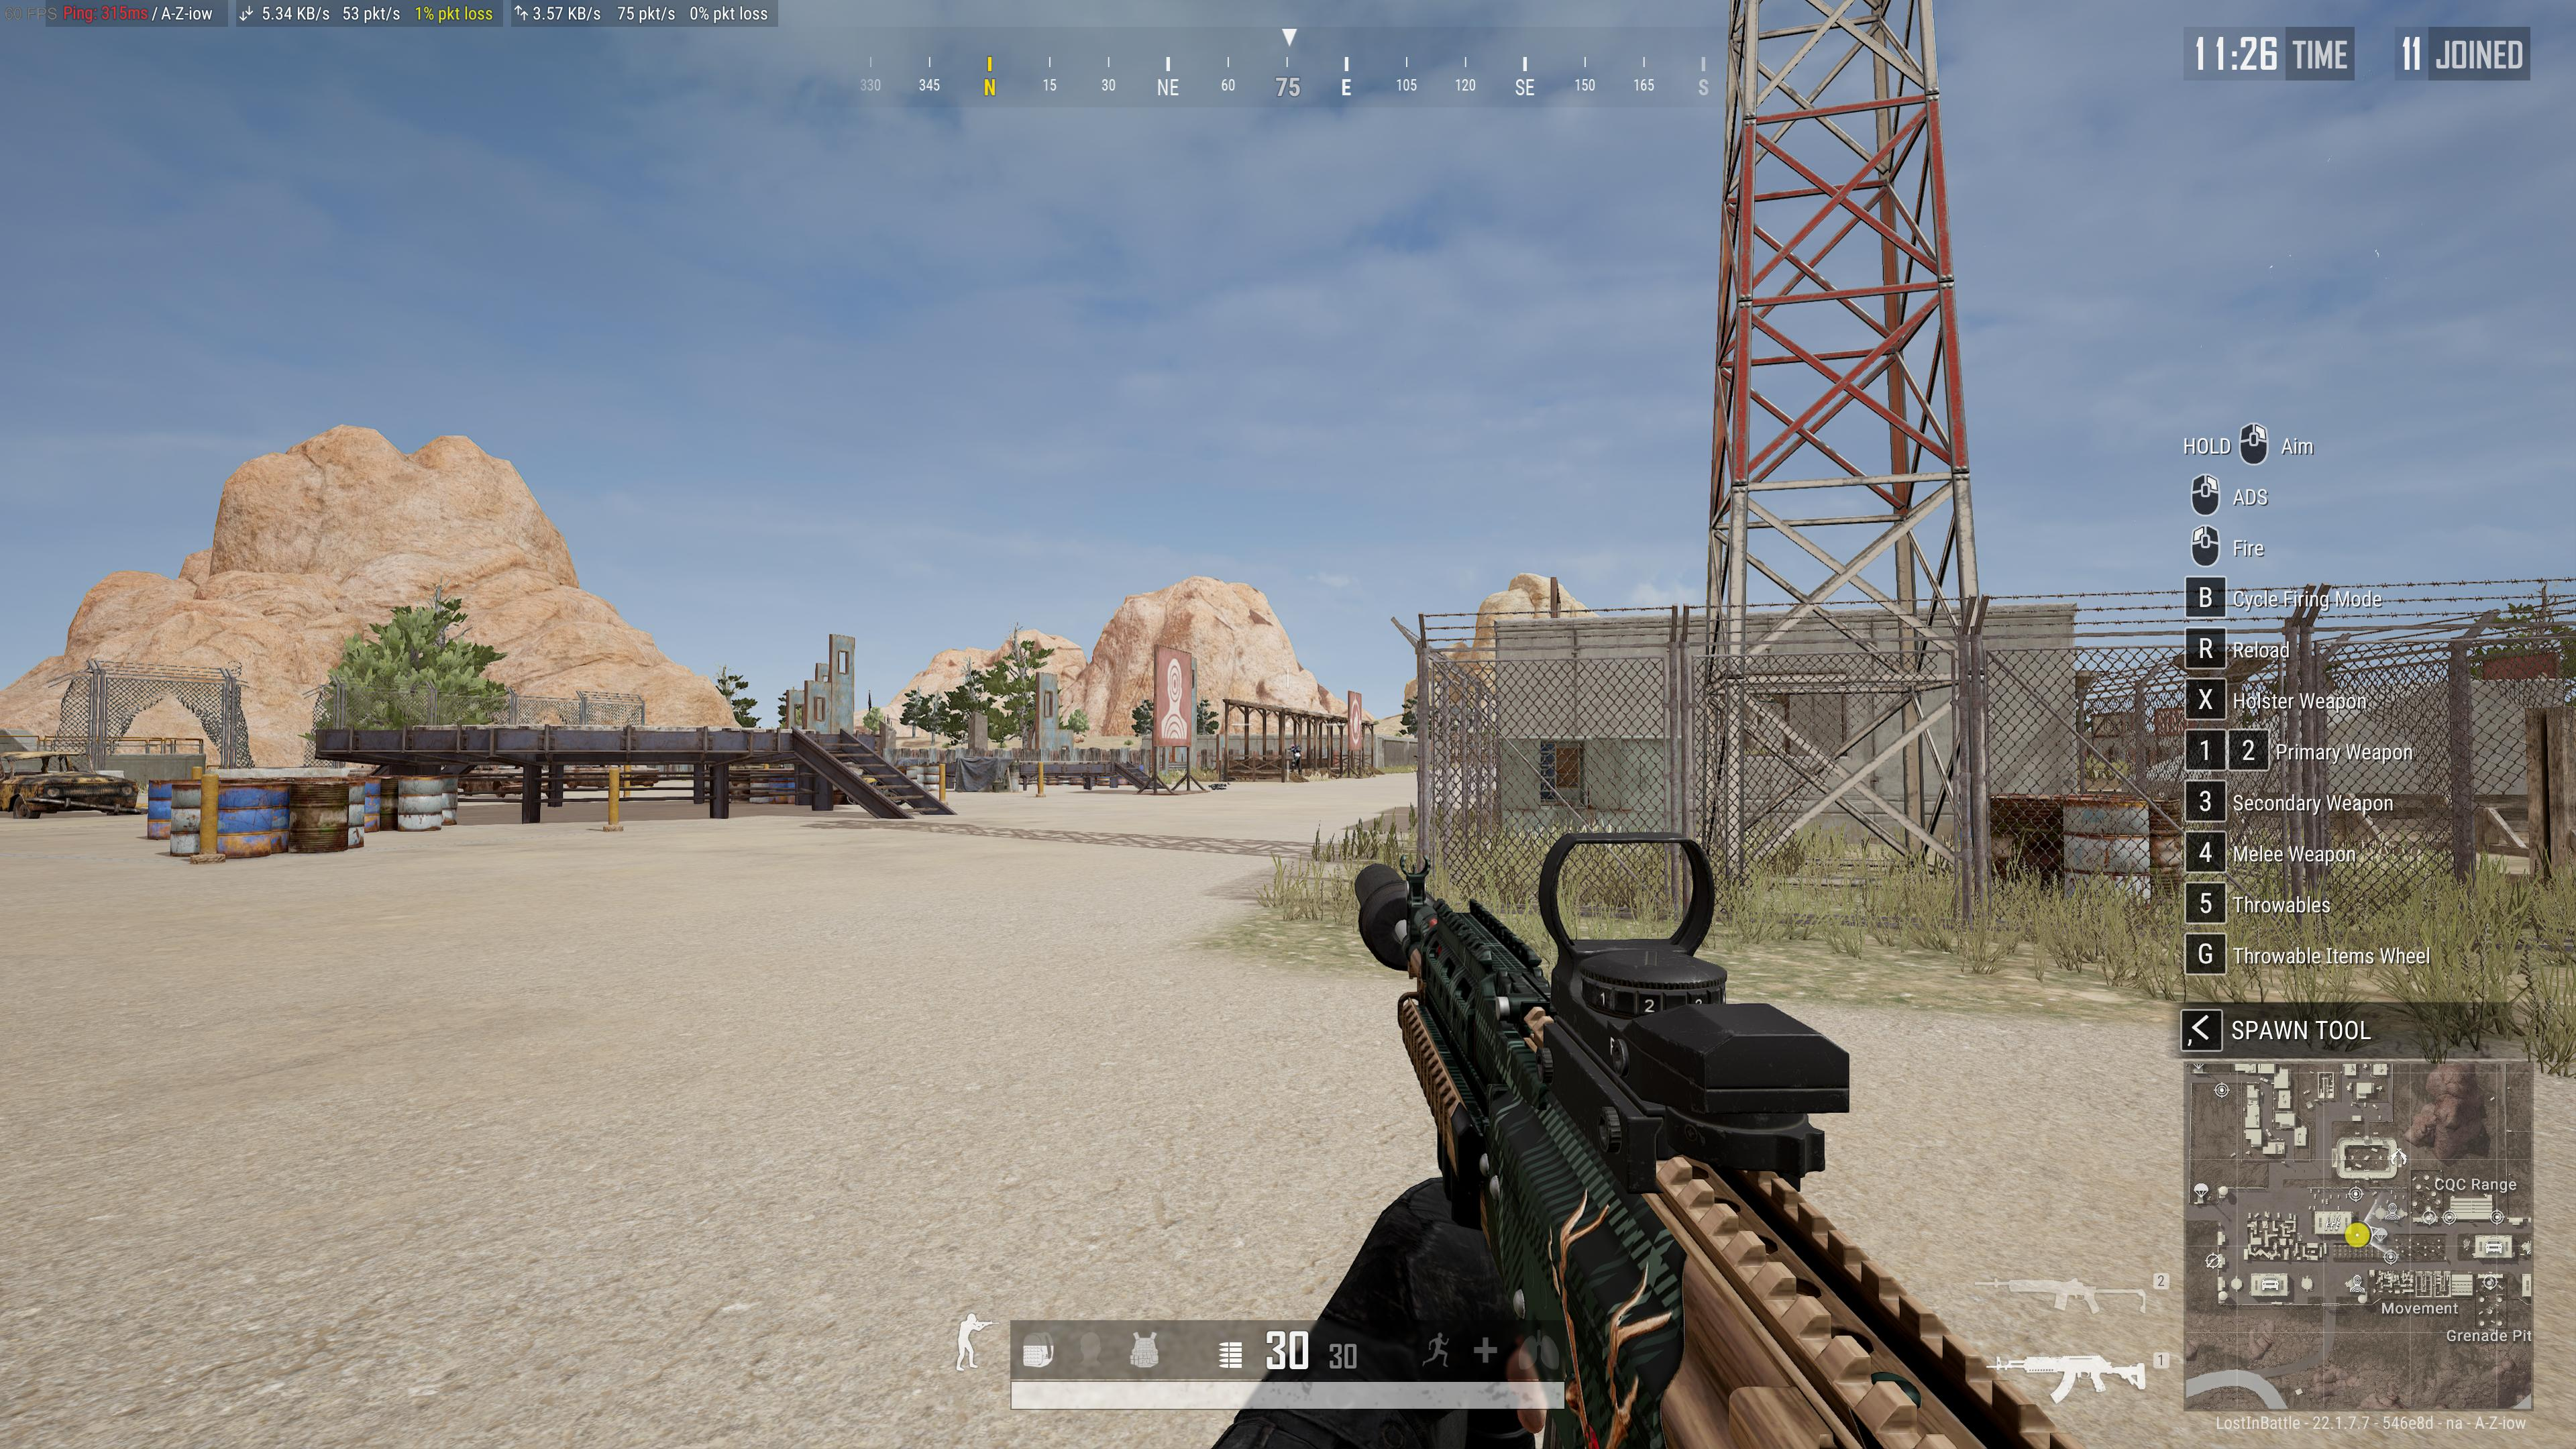enemy: (1288, 743, 1304, 773)
